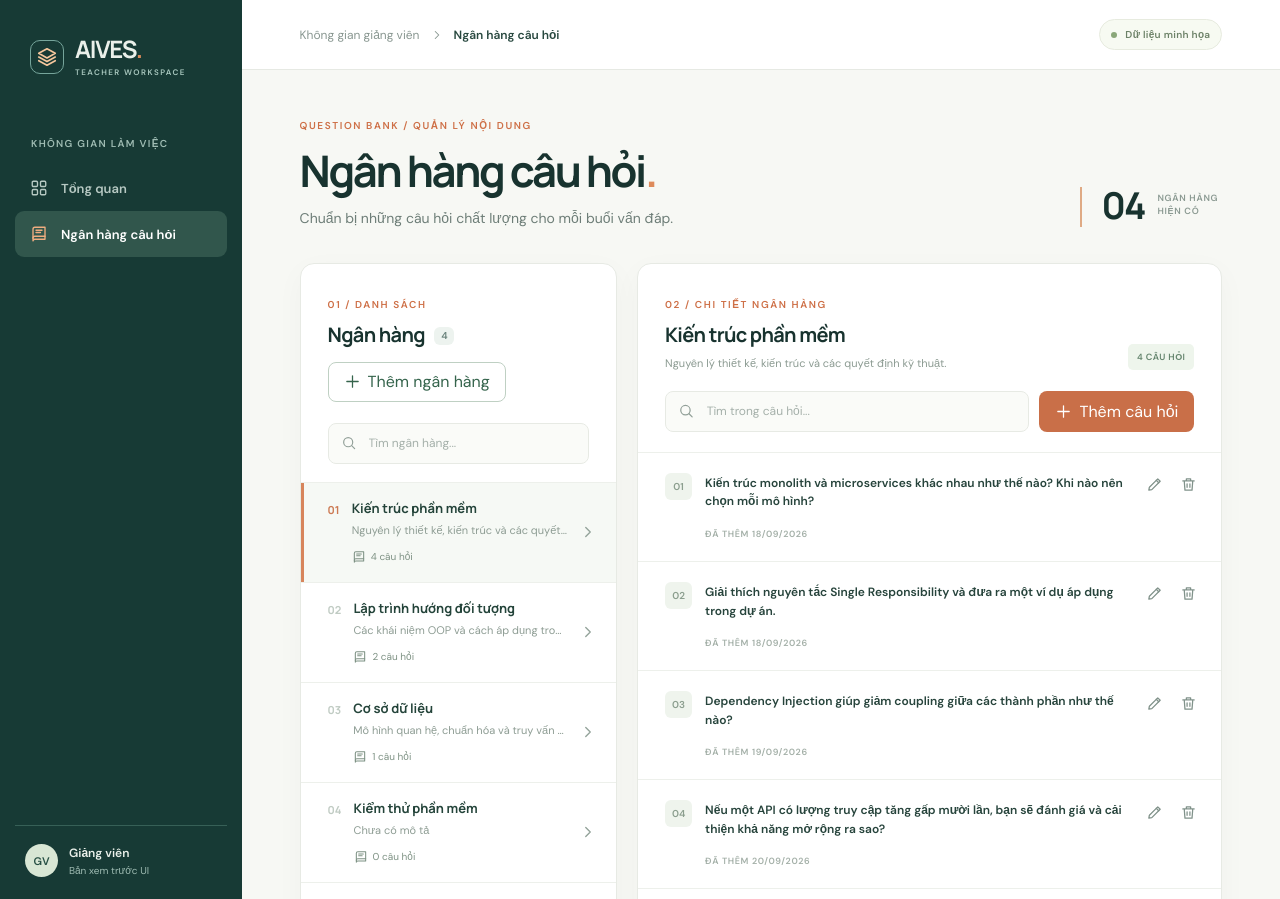
Test case: QuestionBankWorkspace › traps keyboard focus in the dialog and restores focus on cancel
Click the button "Thêm ngân hàng". click: (417, 382)
box: [328,362,506,402]
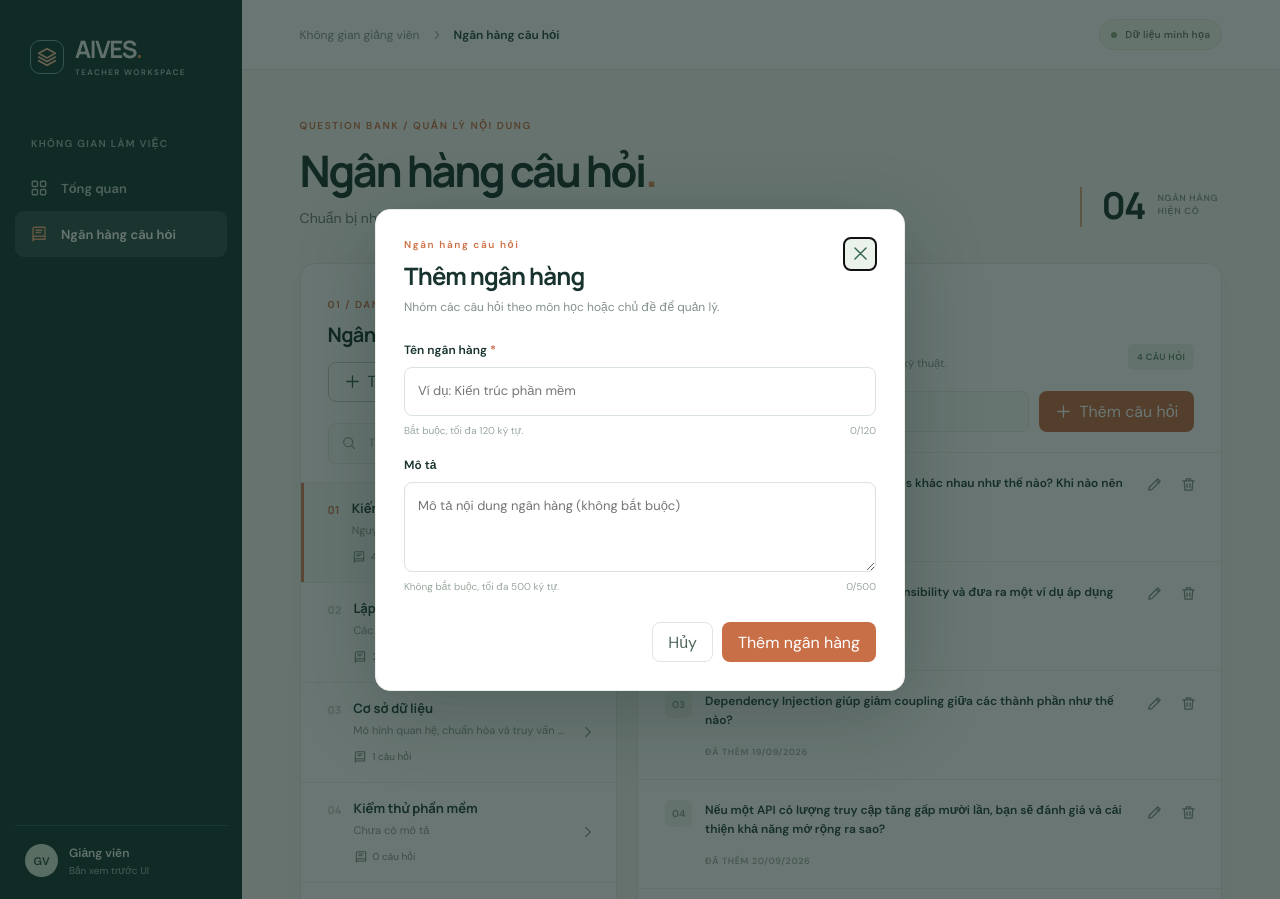
Press Shift+Tab
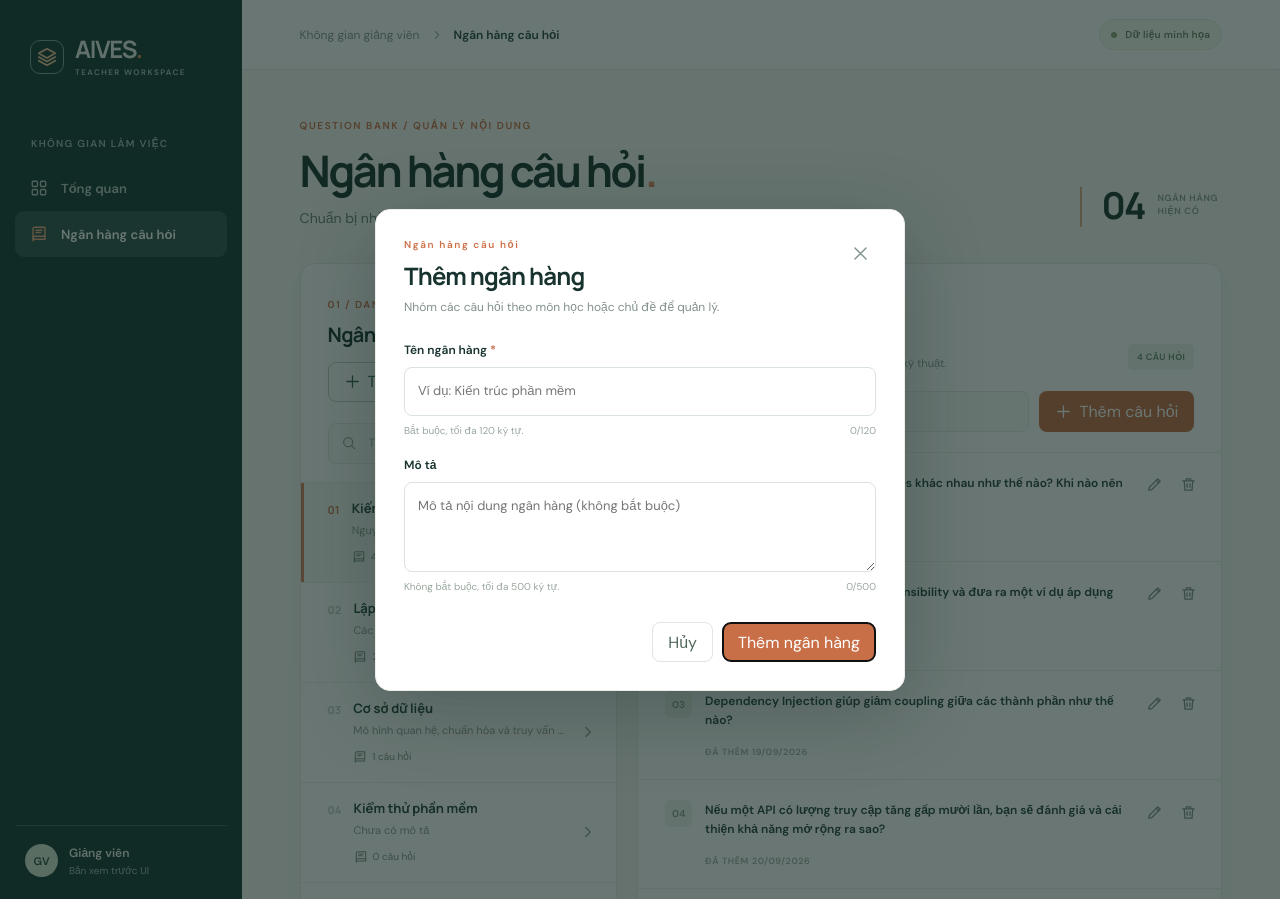
Press Tab
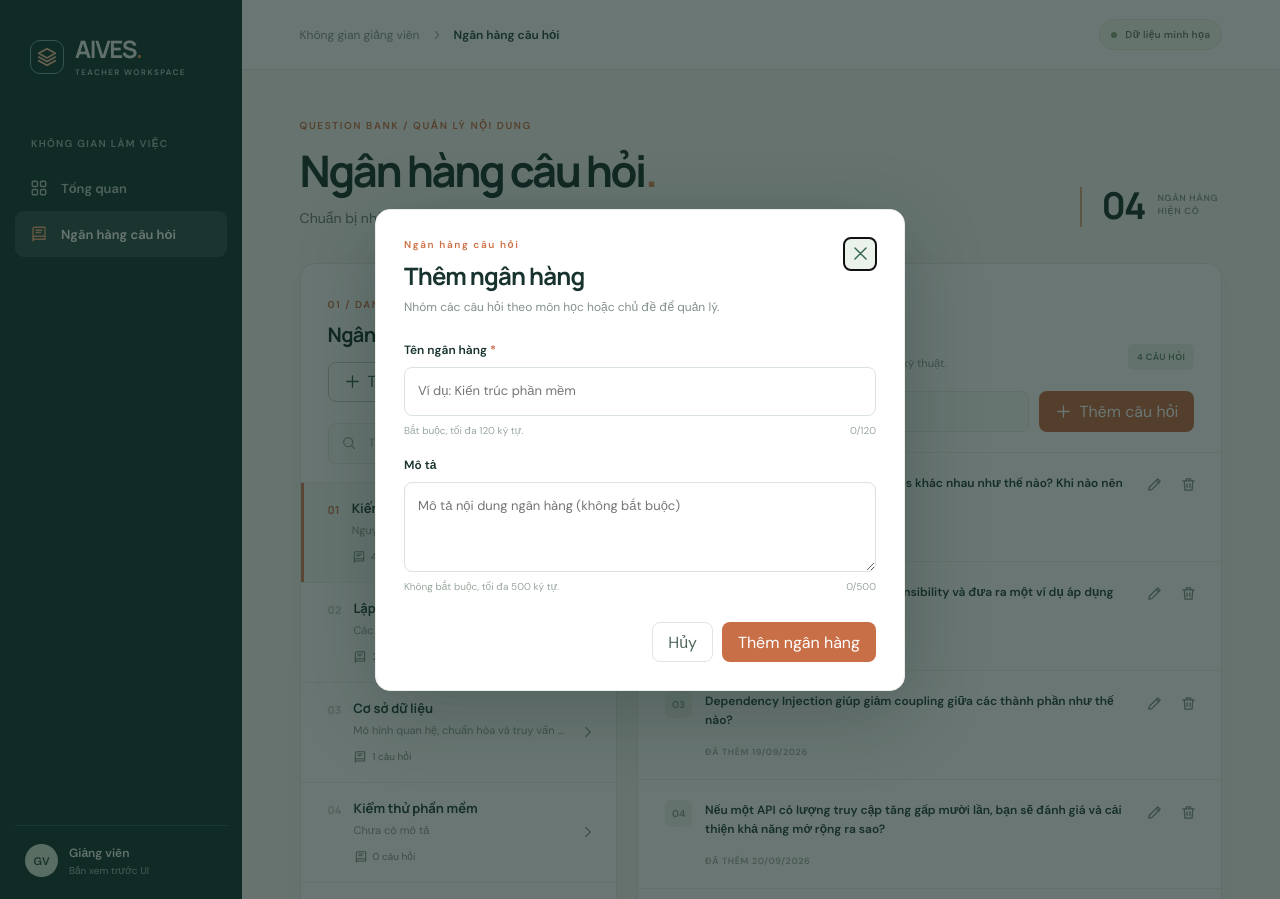
Press Escape
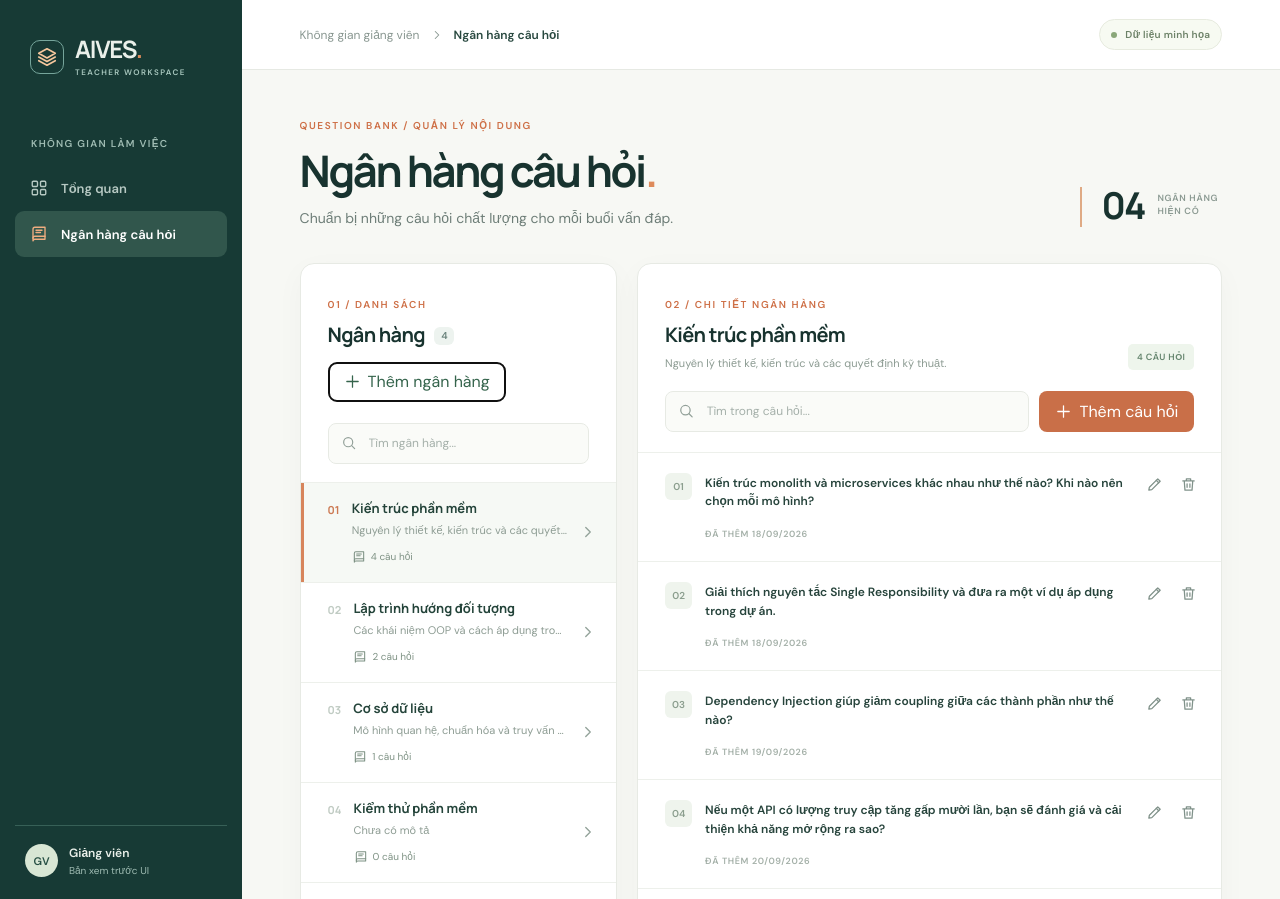
Expected: the dialog is gone
